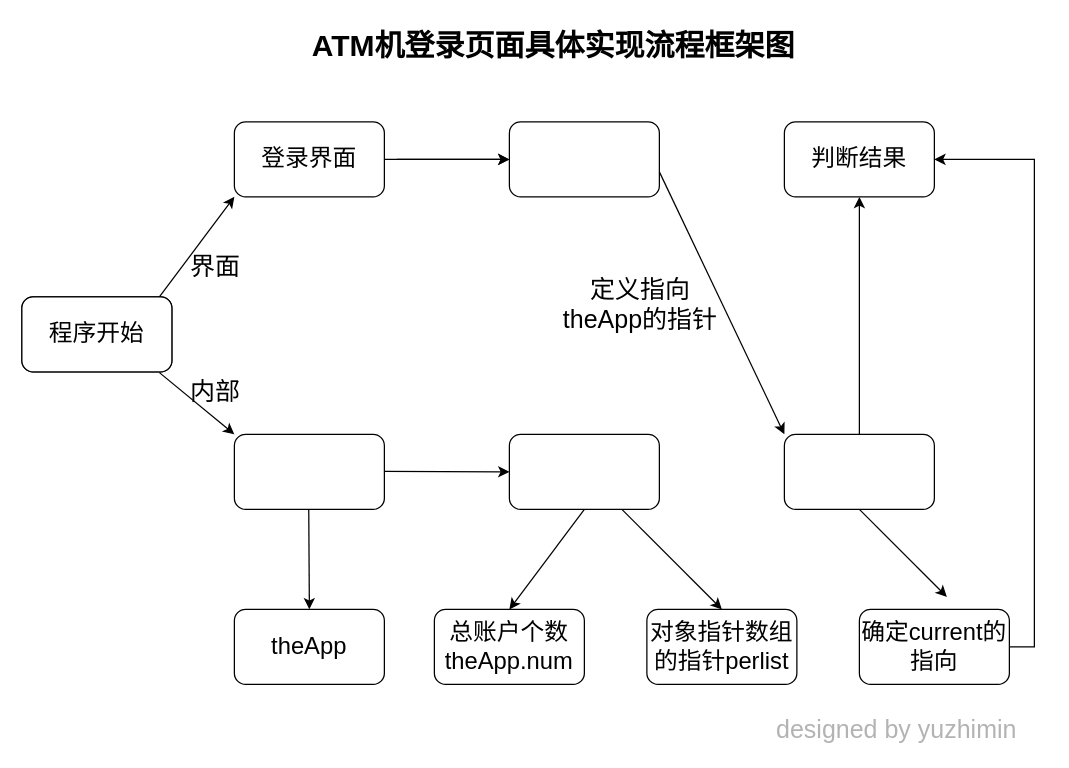
Image size: 1069x768. Some labels were removed from this diagram. The shapes that lost their labels are listed below. From the top down, each one's centre as x and y in pixels, then its label:
the point at 583,159: 读取用户输入
the point at 308,471: 定义一个P4App对象
the point at 583,471: 读取本地账户信息
the point at 858,471: 登录函数
